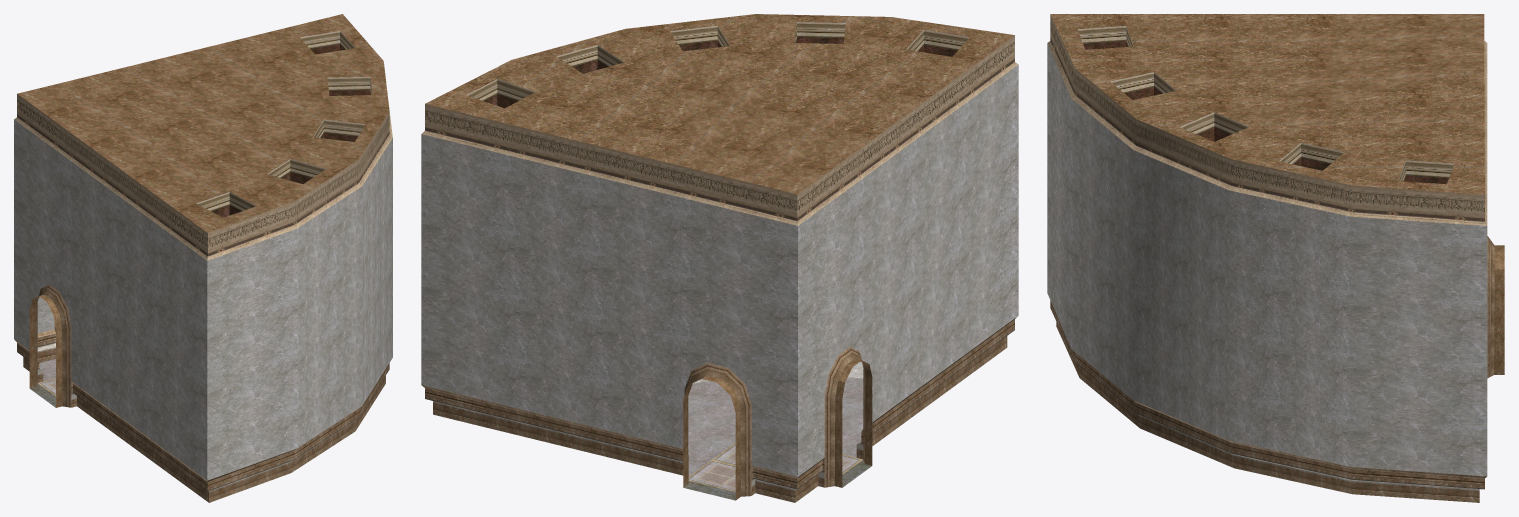
Rendered from thm_nboo_thed_theed_palace_r4_mesh_r4.fbx.
The picture shows the model from 3 angles, left to right: view 1: azimuth 30°, elevation 25°; view 2: azimuth 150°, elevation 25°; view 3: azimuth 270°, elevation 25°; orthographic projection. The views are drawn at different scales.
Visible parts, largest first — view 1: mesh_node; view 2: mesh_node; view 3: mesh_node.
Part boxes in pixels (x1,y1,x2,y2): mesh_node: [14, 14, 392, 502]; mesh_node: [421, 14, 1018, 502]; mesh_node: [1047, 14, 1504, 502].
Bounding box in the file's own units: 23.6 × 18.01 × 24.04.
